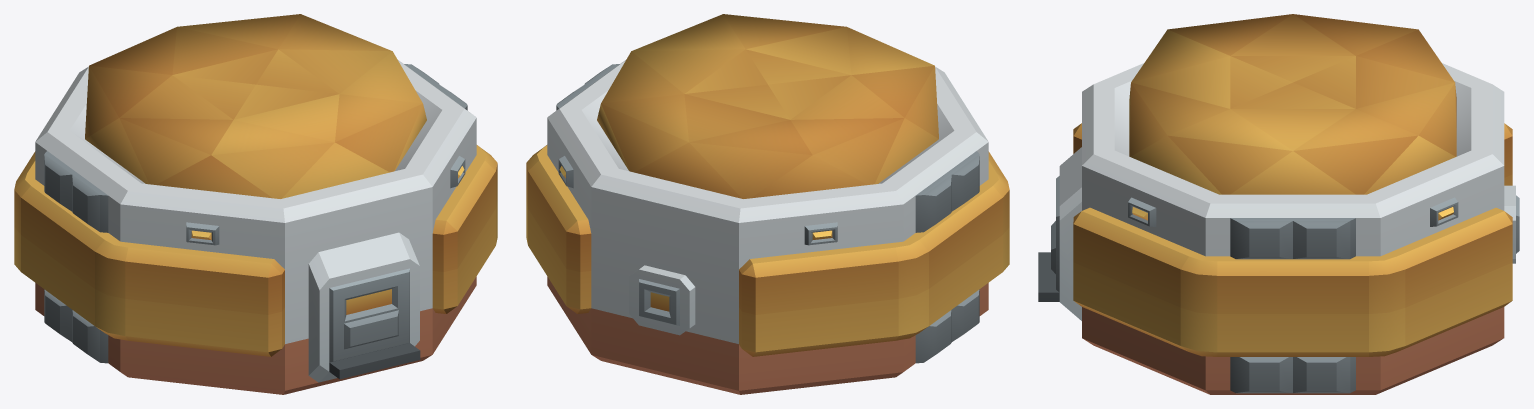
Rendered from Factory.fbx.
3 renders of one model, left to right at view 1: azimuth 30°, elevation 25°; view 2: azimuth 150°, elevation 25°; view 3: azimuth 270°, elevation 25°, orthographic. The views are drawn at different scales.
Visible parts, largest first — view 1: basemodule_E; view 2: basemodule_E; view 3: basemodule_E.
Part boxes in pixels (bbox=[...]): basemodule_E: bbox=[14, 14, 497, 394]; basemodule_E: bbox=[526, 14, 1009, 394]; basemodule_E: bbox=[1038, 14, 1519, 394].
Bounding box in the file's own units: 222 × 119 × 228.
